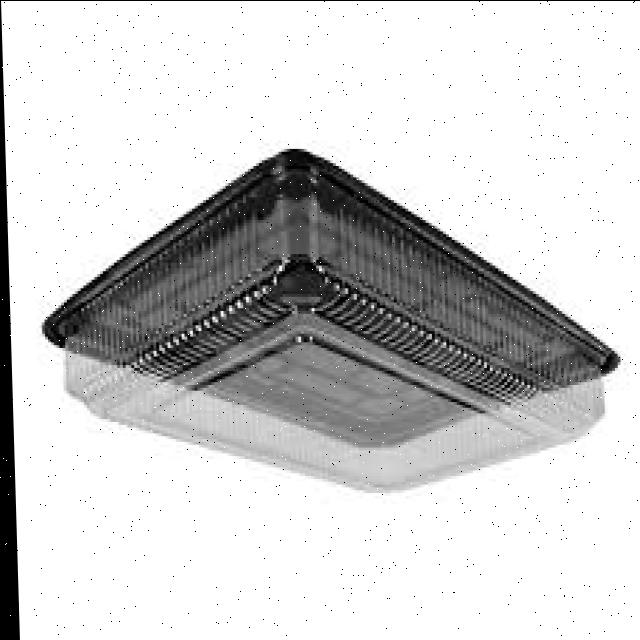disposable: (17, 137, 611, 510)
